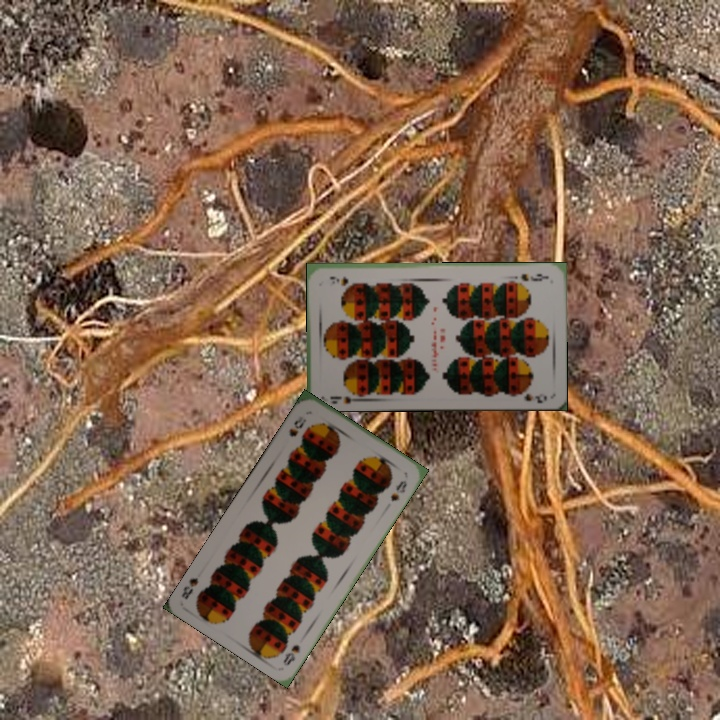S8: (285, 412, 309, 440), (279, 641, 302, 668)
S9: (326, 387, 362, 407), (517, 270, 550, 283)
